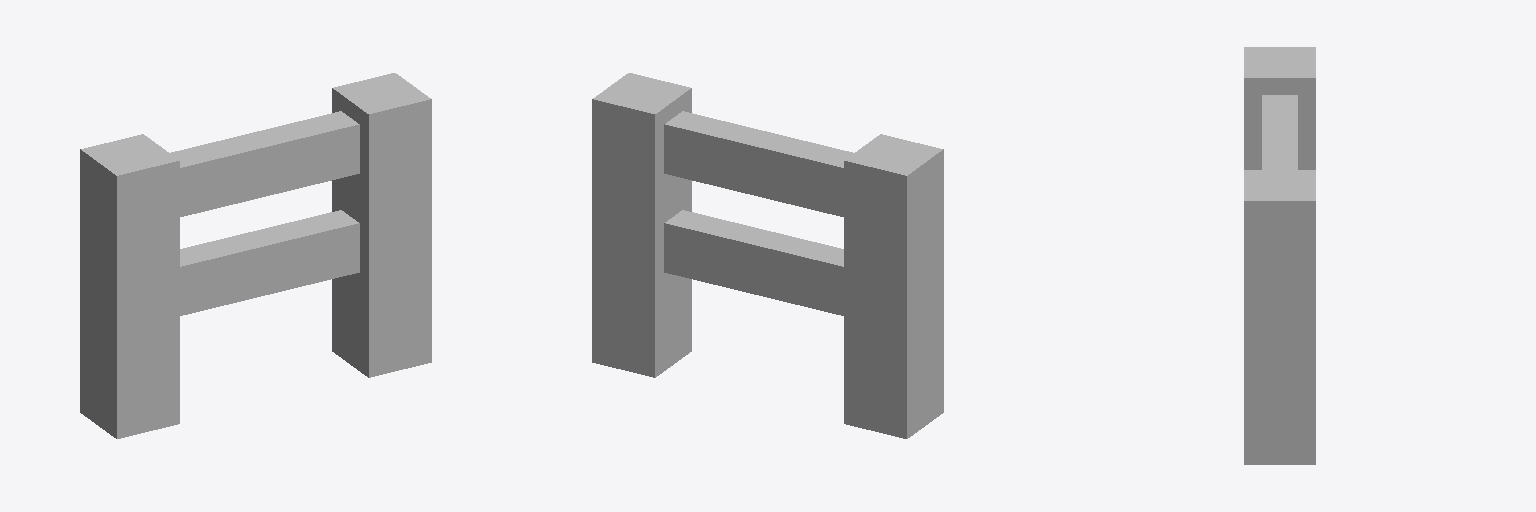
Rendered from fence.obj.
3 renders of one model, left to right at view 1: azimuth 30°, elevation 25°; view 2: azimuth 150°, elevation 25°; view 3: azimuth 270°, elevation 25°, orthographic.
Visible parts, largest first — view 1: cube; view 2: cube; view 3: cube.
Boxes of the visible parts, x1,y1,x2,y2 form: cube: [80, 73, 431, 438]; cube: [592, 73, 943, 438]; cube: [1244, 47, 1315, 464].
Bounding box in the file's own units: 1.25 × 1 × 0.25.